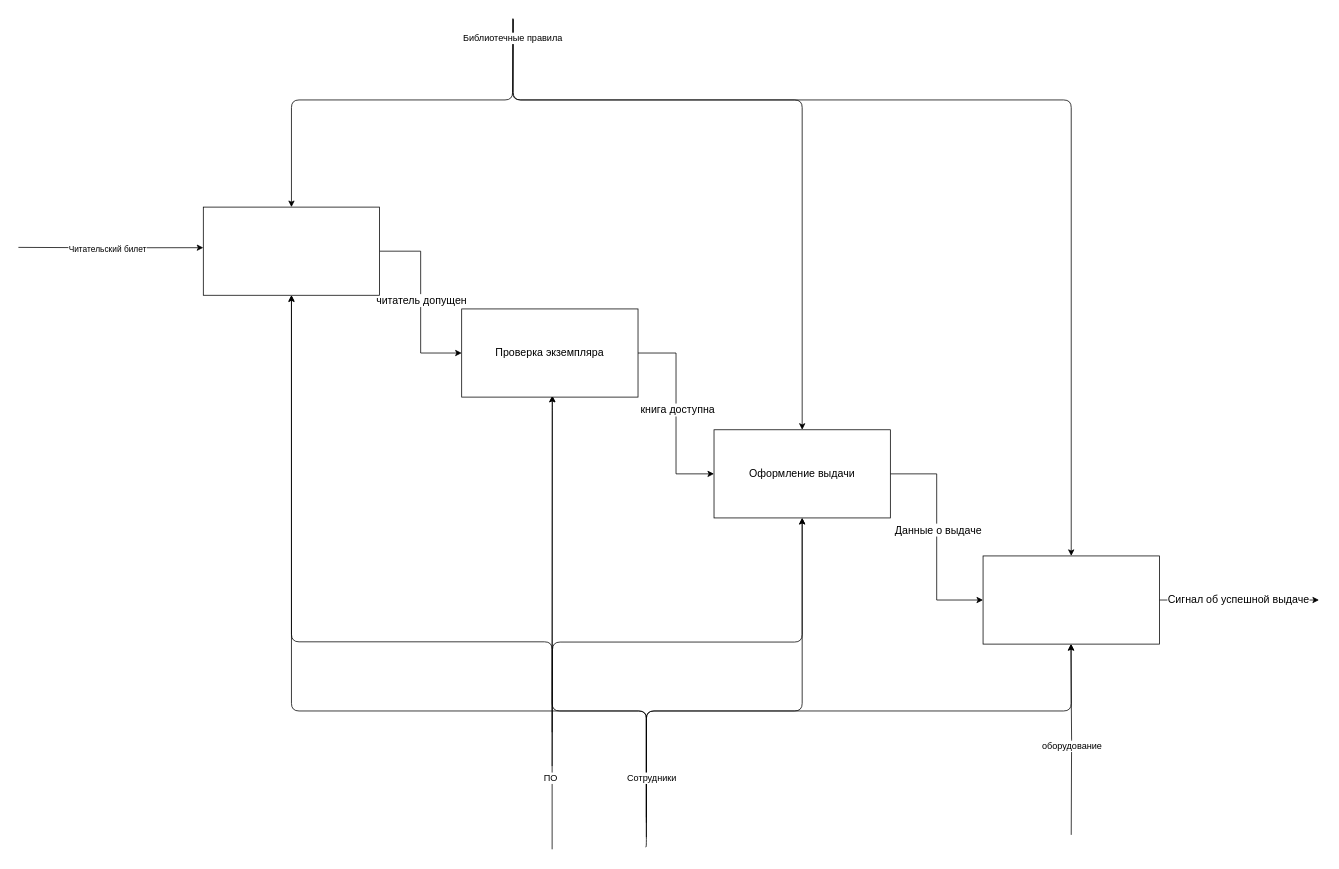
Some shapes in this 1339 by 869 pixel diagram are drawn without their labels. The centre of each missing label's shape, as x and y in pixels:
Печать / выдача чека: [1070,599]
Проверка читателя: [291,250]
